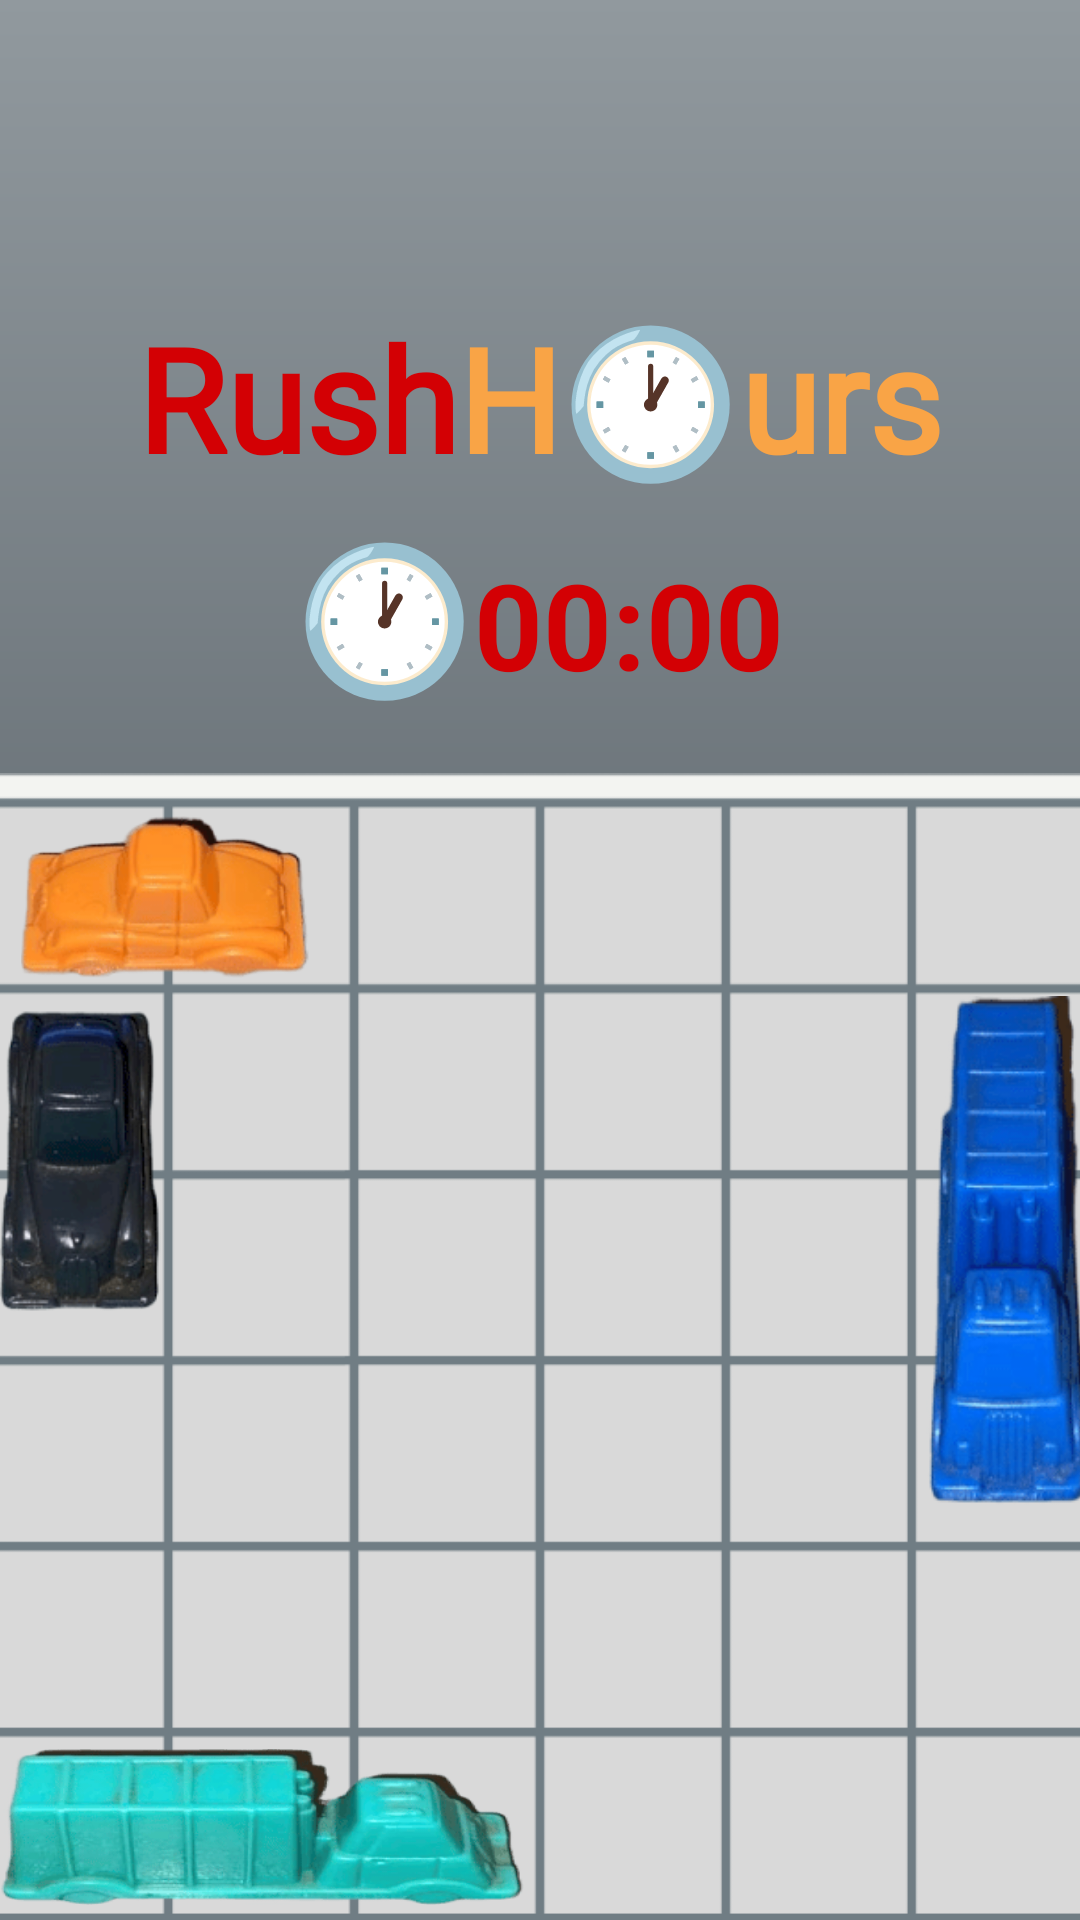

Named icons in this screenshot (1080w x 1920h) and their bounding boxes, rect(x1, y1, x2, y2):
car sh: rect(21, 816, 308, 978)
car sv: rect(0, 1011, 162, 1310)
